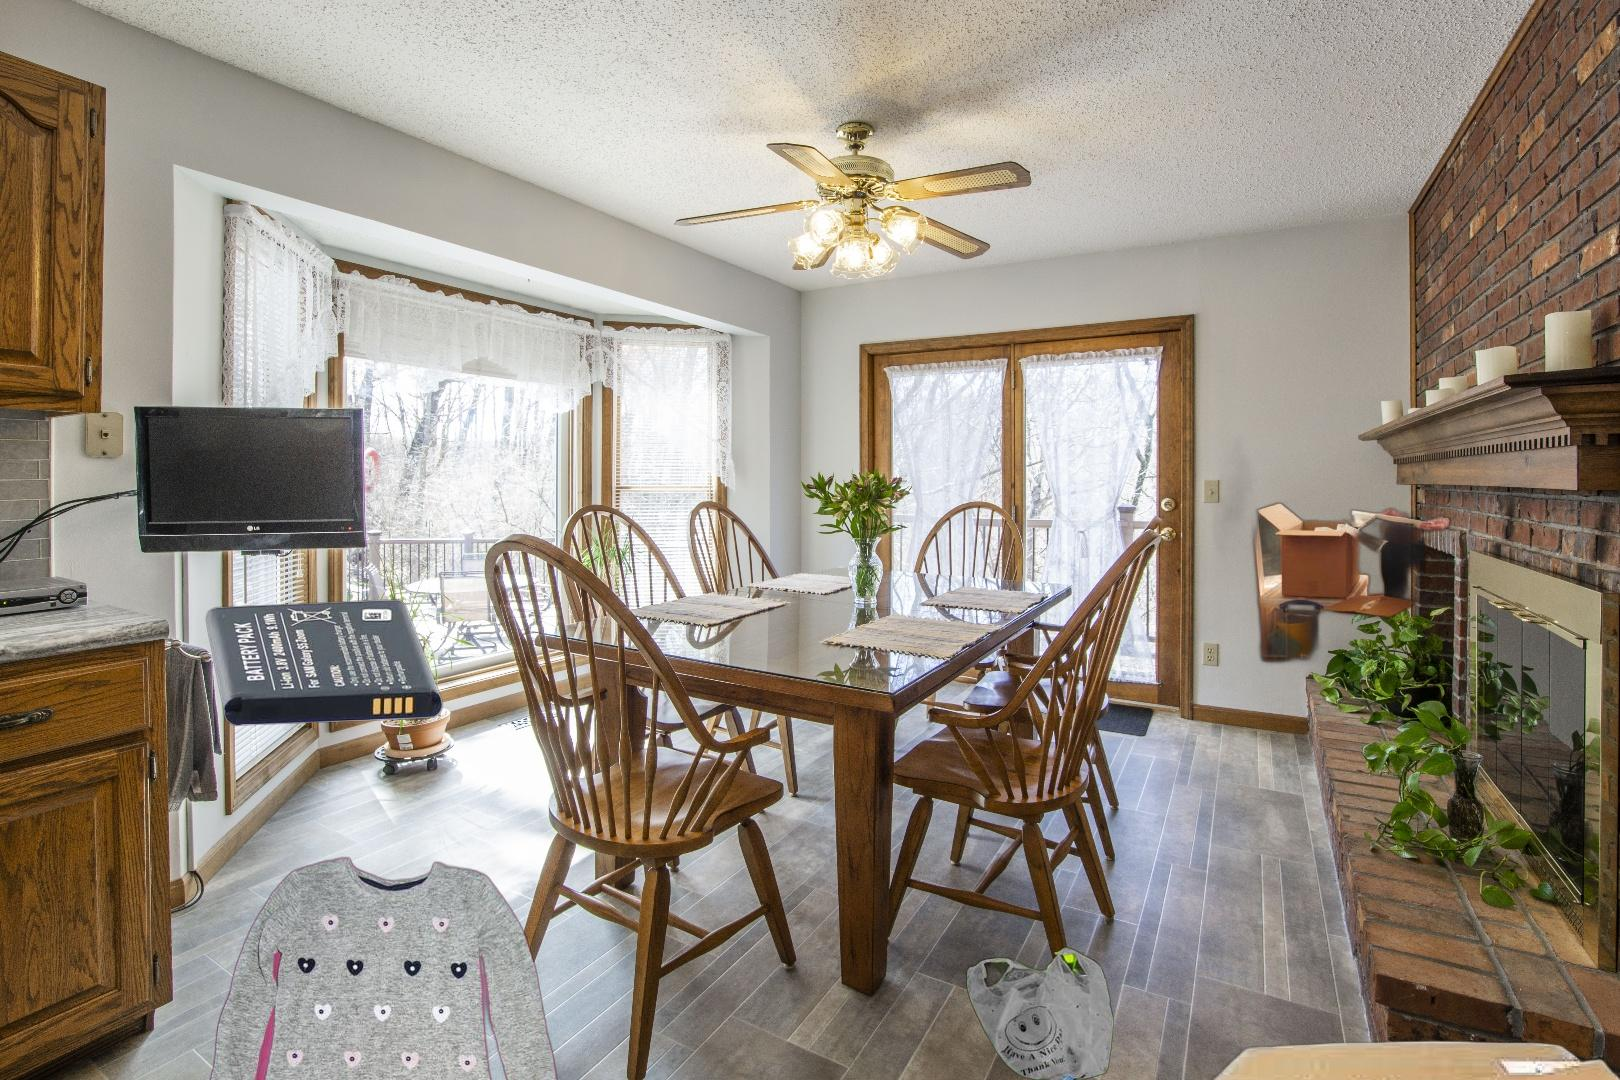battery: (202, 597, 446, 729)
clothes: (196, 853, 567, 1080)
plastic-bag: (963, 944, 1117, 1080)
trashbox-cardboard: (1080, 409, 1620, 698), (1131, 1037, 1620, 1080)
